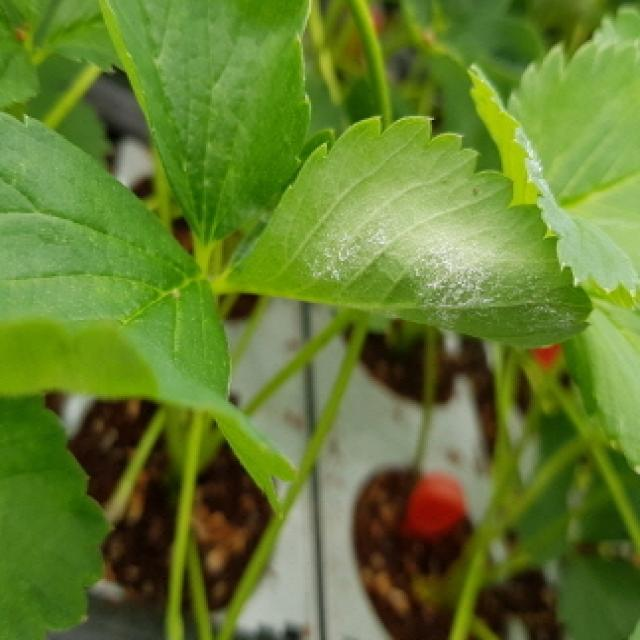Powdery Mildew Leaf: (211, 115, 593, 349), (467, 62, 640, 312)
